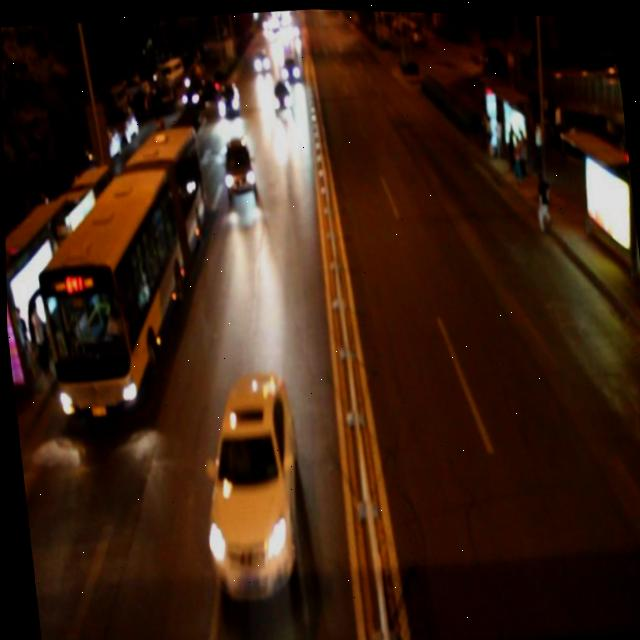car: (188, 365, 308, 605), (213, 75, 240, 120), (268, 74, 293, 115)
truck: (219, 133, 256, 196)
van: (20, 116, 220, 419)
